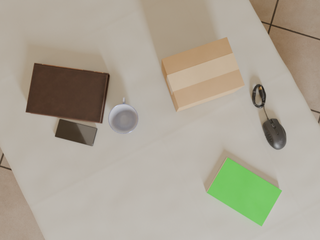book: (206, 157, 282, 226), (26, 63, 110, 123)
box: (162, 37, 245, 112)
cup: (108, 97, 138, 134)
mouse: (263, 117, 286, 150)
phone: (55, 119, 97, 146)
